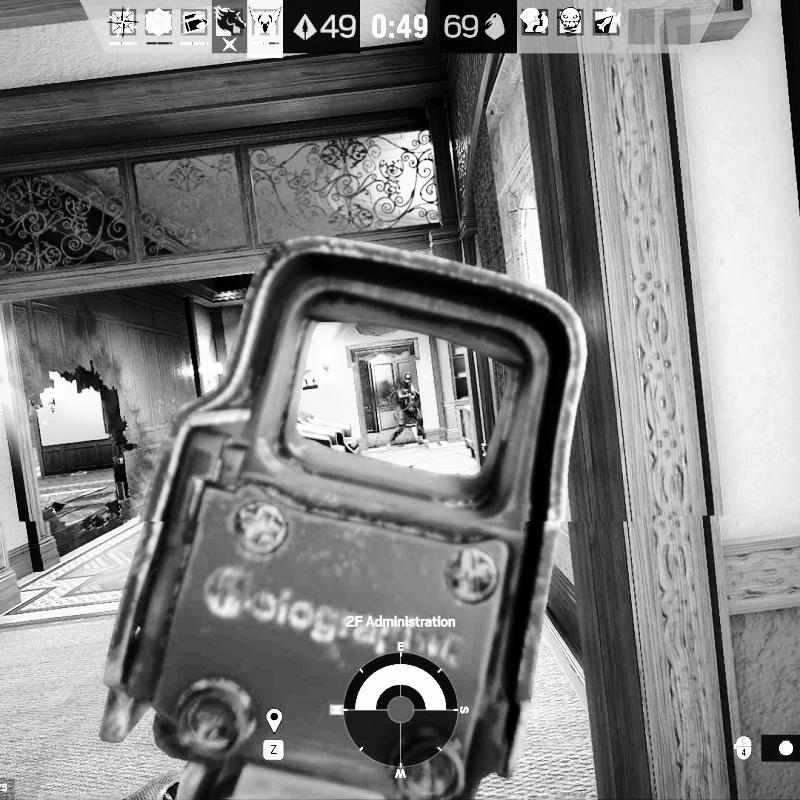Character: (387, 372, 427, 448)
Head: (402, 372, 413, 385)
